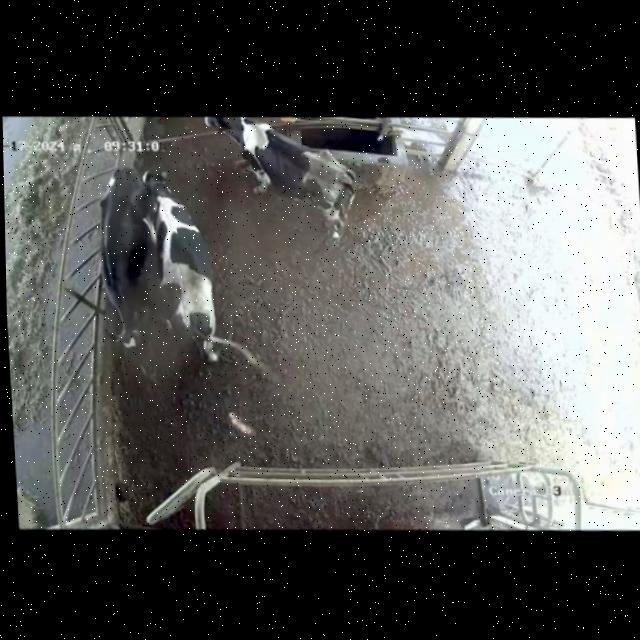stand: (205, 105, 361, 239), (138, 154, 234, 363), (78, 156, 162, 359)
